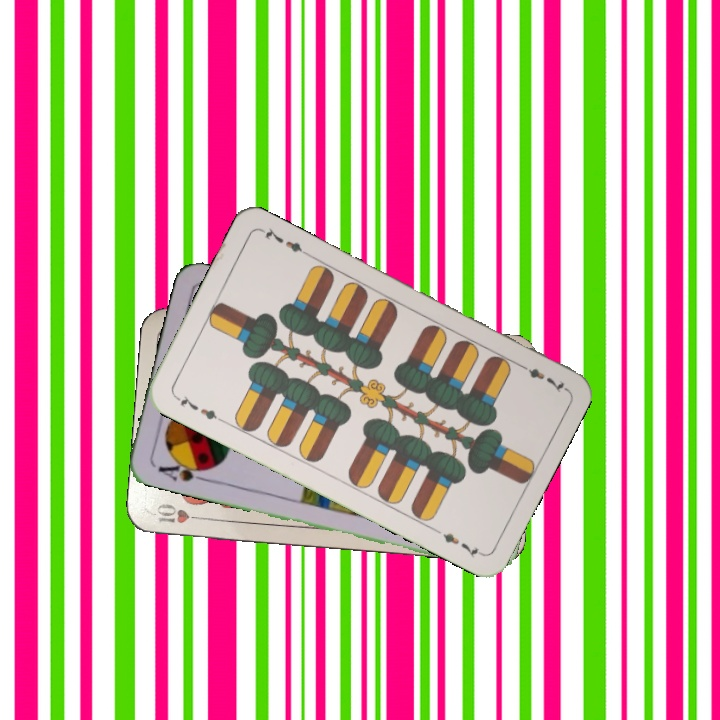E7: (513, 359, 568, 396), (171, 391, 226, 425)
H10: (150, 500, 210, 526)
SA: (154, 455, 212, 484)
